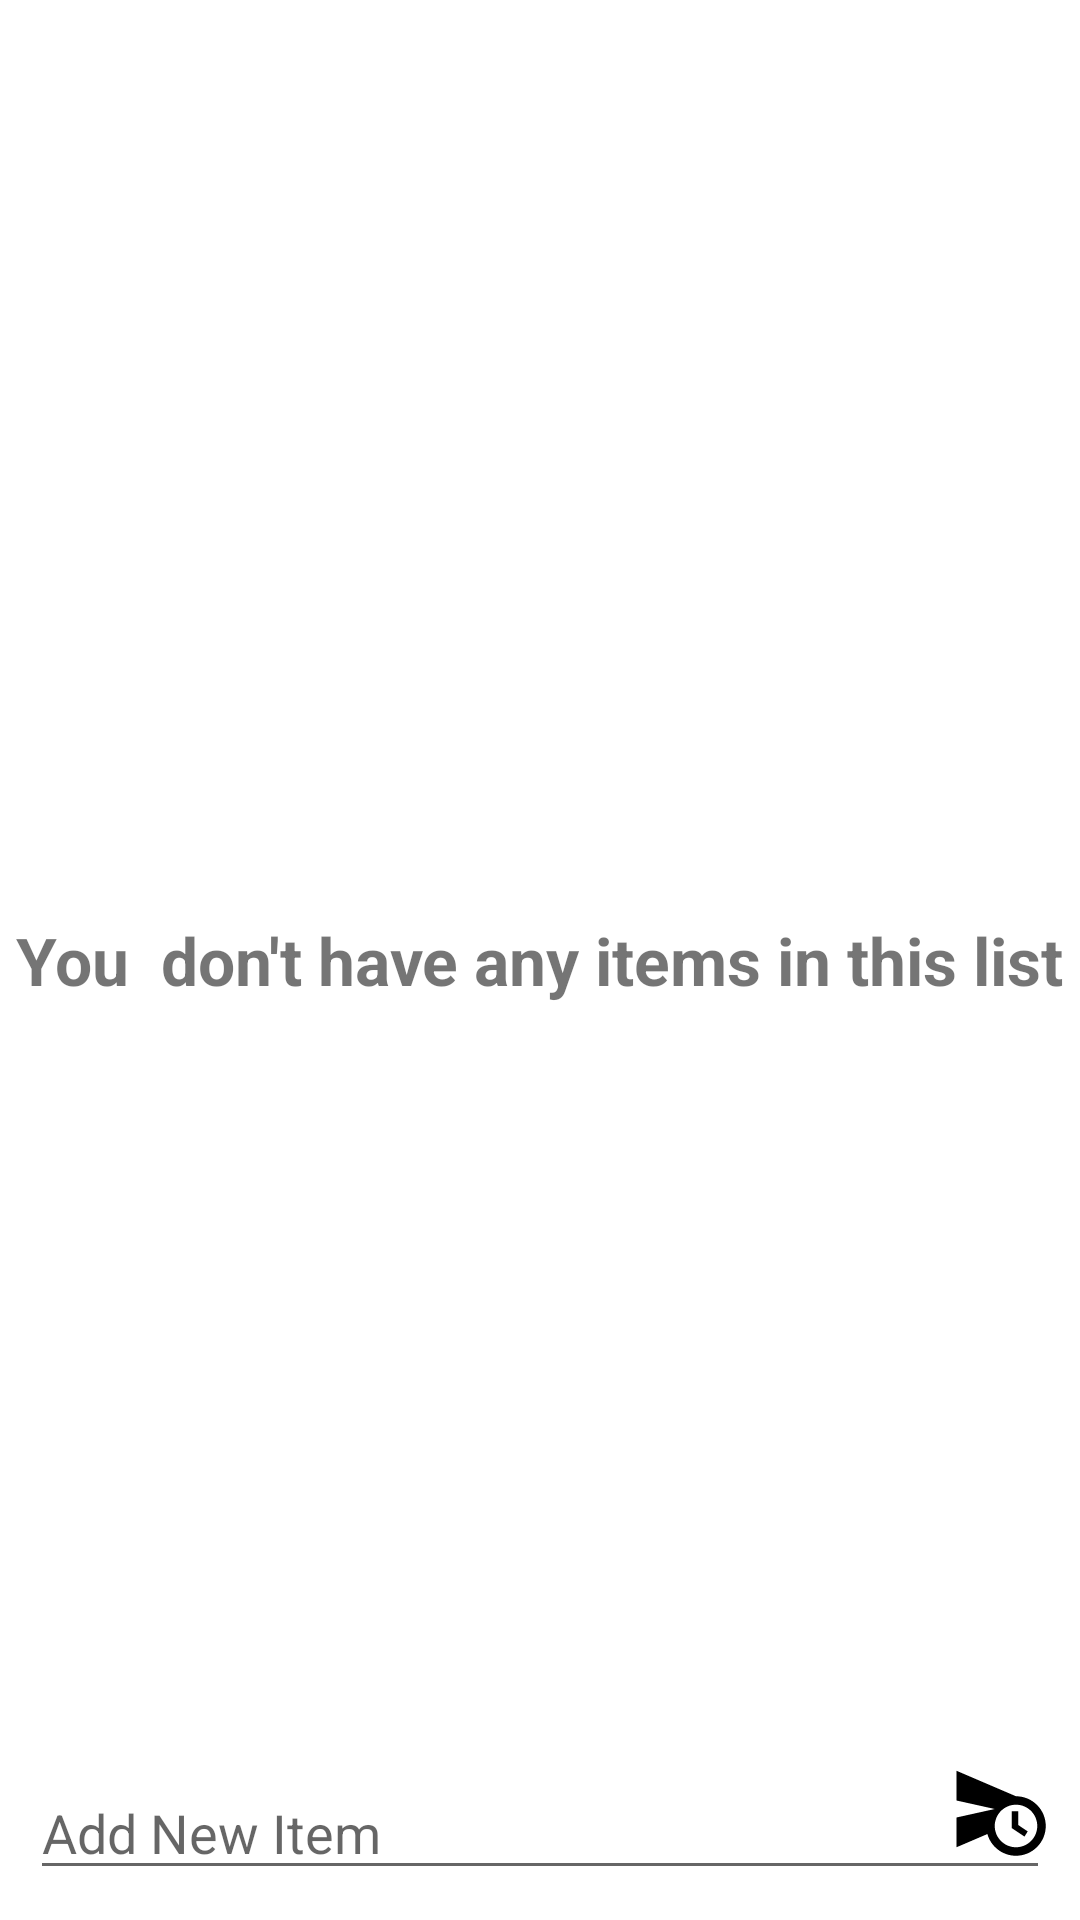

Screen size 1080px x 1920px. Icon name, then its center in pixels as point (x, y):
schedule send: point (1001, 1813)
